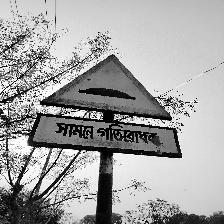Speed-breaker: (31, 54, 180, 158)
